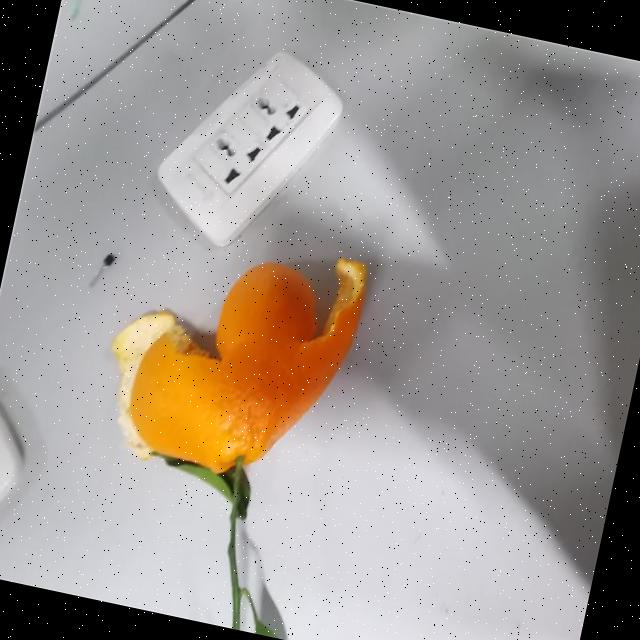orange-peel: (95, 213, 374, 498)
